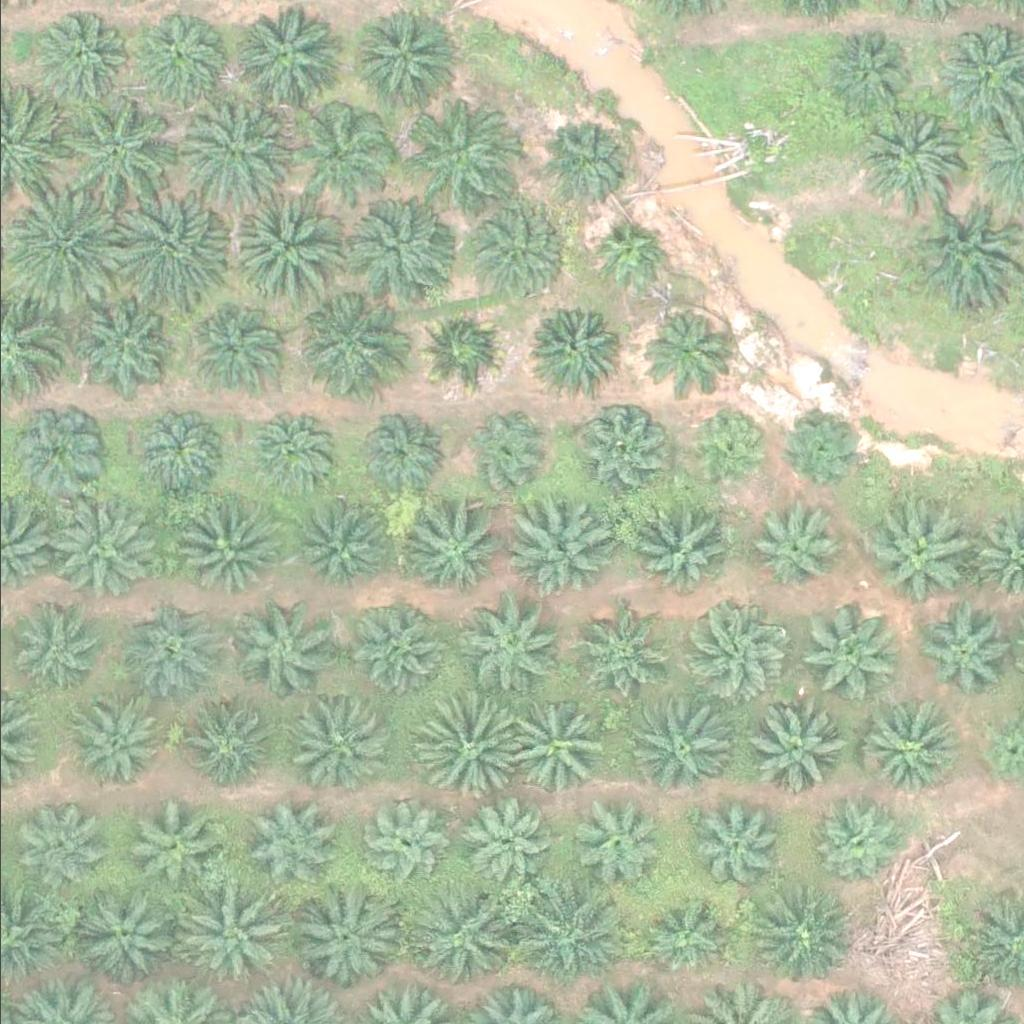Kelapa_Sawit: (167, 882, 280, 995), (409, 880, 522, 993), (509, 881, 622, 994), (5, 194, 118, 307), (116, 194, 229, 307), (234, 193, 347, 306), (349, 194, 462, 307), (174, 91, 287, 204), (909, 195, 1022, 308), (409, 691, 523, 803), (43, 495, 157, 607), (290, 290, 403, 402), (60, 98, 173, 210), (73, 879, 174, 979), (290, 890, 391, 990), (65, 689, 166, 789), (498, 702, 599, 802), (450, 594, 551, 694), (340, 596, 441, 696), (404, 501, 505, 601), (4, 401, 105, 501), (64, 293, 165, 393), (404, 95, 505, 195), (292, 101, 393, 201), (138, 7, 239, 107), (230, 7, 331, 107), (356, 13, 457, 113), (684, 602, 785, 702), (743, 494, 844, 594), (860, 104, 961, 204), (288, 690, 388, 790), (231, 599, 331, 699), (107, 599, 207, 699), (624, 500, 724, 600), (508, 503, 608, 603), (171, 504, 271, 604), (126, 402, 226, 502), (470, 202, 570, 302), (37, 10, 137, 110), (747, 884, 847, 984), (858, 698, 958, 798), (745, 698, 845, 798), (630, 697, 730, 797), (800, 606, 900, 706), (864, 501, 964, 601), (567, 793, 655, 881), (455, 797, 543, 885), (129, 802, 217, 890), (9, 807, 97, 895), (184, 695, 272, 783), (566, 616, 654, 704), (300, 503, 388, 591), (679, 404, 767, 492), (461, 408, 549, 496), (349, 409, 437, 497), (244, 409, 332, 497), (541, 117, 629, 205), (646, 893, 734, 981), (358, 799, 446, 886), (239, 800, 327, 887), (578, 406, 666, 493), (637, 308, 725, 395), (532, 304, 620, 391), (414, 304, 502, 391), (193, 301, 281, 388), (692, 800, 780, 887), (815, 797, 903, 884), (915, 607, 1003, 694), (778, 406, 866, 493), (825, 30, 913, 117), (587, 220, 663, 295)
